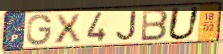4: (85, 10, 108, 44)
B: (139, 8, 170, 43)
G: (25, 13, 54, 47)
J: (115, 10, 138, 42)
U: (166, 5, 203, 41)
X: (53, 12, 83, 45)
